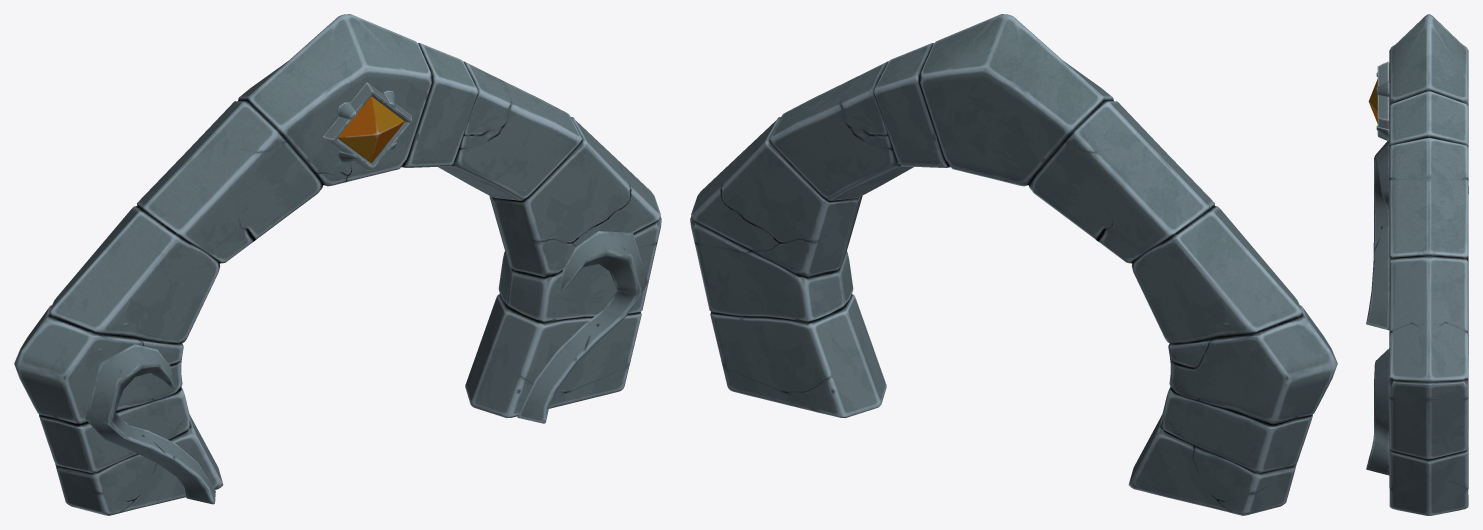
File: arch.2d8434a3.glb
3 views of the same model, side by side, from view 1: azimuth 30°, elevation 25°; view 2: azimuth 150°, elevation 25°; view 3: azimuth 270°, elevation 25° (orthographic). The views are drawn at different scales.
Visible parts, largest first — view 1: Arch_001, Arch_004, Arch_002; view 2: Arch_001; view 3: Arch_001, Arch_004, Arch_002, Arch_003.
Part boxes in pixels (box(x1,y1,x2,y2)): Arch_001: box(14, 14, 661, 515); Arch_004: box(85, 231, 647, 504); Arch_002: box(322, 82, 411, 170); Arch_001: box(690, 14, 1337, 515); Arch_001: box(1389, 14, 1468, 515); Arch_004: box(1366, 140, 1389, 475); Arch_002: box(1368, 61, 1389, 141); Arch_003: box(1376, 72, 1389, 137).
Size of the model in its own units: 7.69 by 4.86 by 1.19.
1 material, 1 textured.
